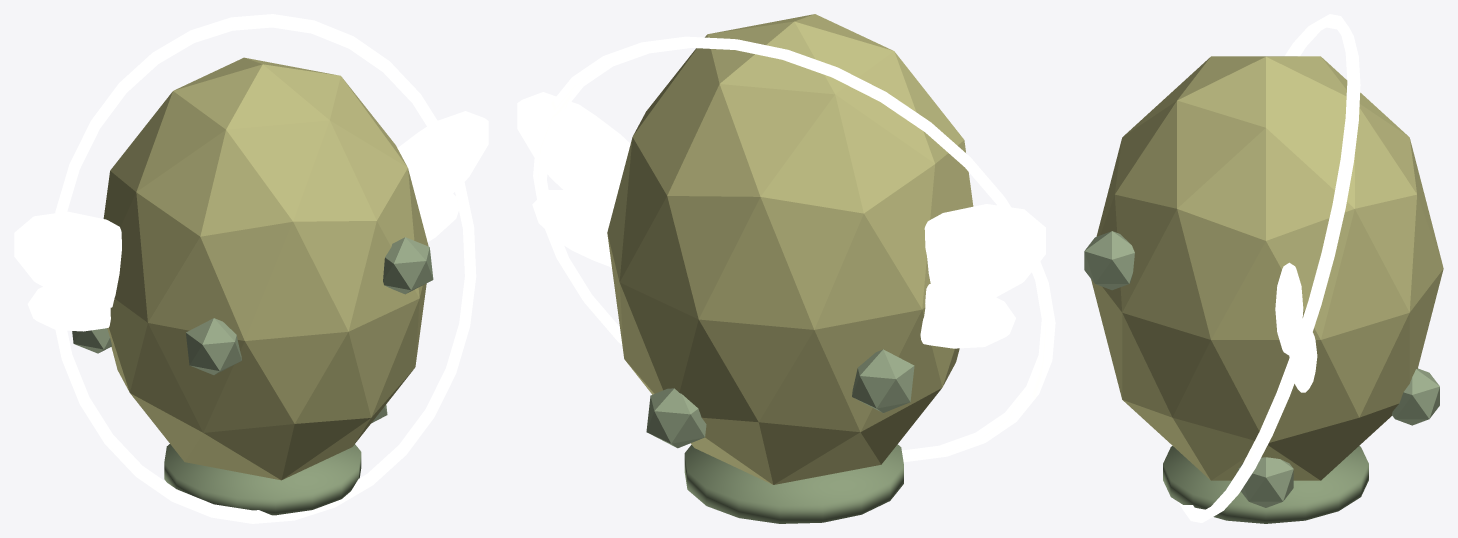
The model's file is egg_prehistoric_11.glb.
The picture shows the model from 3 angles, left to right: view 1: azimuth 30°, elevation 25°; view 2: azimuth 150°, elevation 25°; view 3: azimuth 270°, elevation 25°; orthographic projection. The views are drawn at different scales.
Visible parts, largest first — view 1: ico; view 2: ico; view 3: ico.
Part boxes in pixels (x1,y1,x2,y2): ico: [14, 14, 488, 523]; ico: [517, 14, 1055, 523]; ico: [1084, 14, 1443, 523].
Bounding box in the file's own units: 1.2 × 1.06 × 0.7685.
